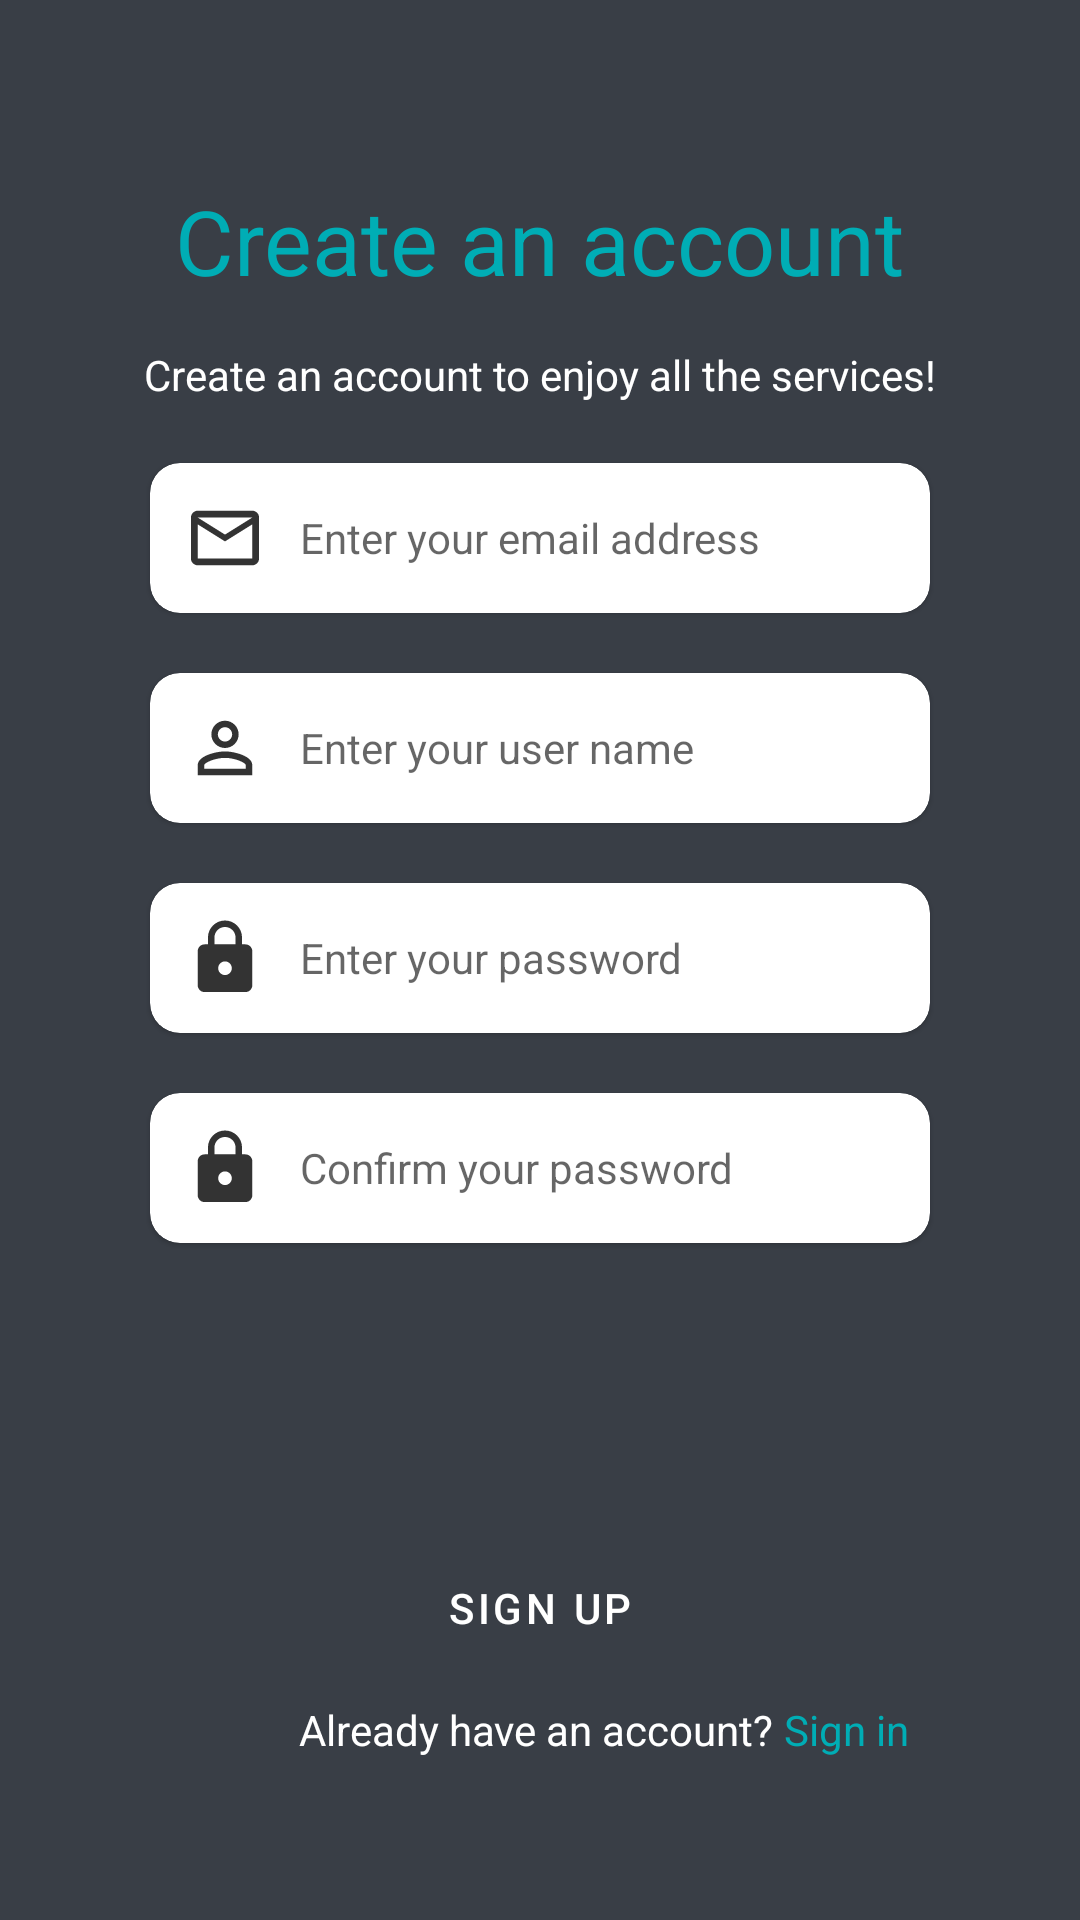

Screen size 1080×1920. Icon name, then its box in pixels as (x1, y1, x2, y2):
lock: (197, 920, 253, 992), (197, 1130, 253, 1202)
